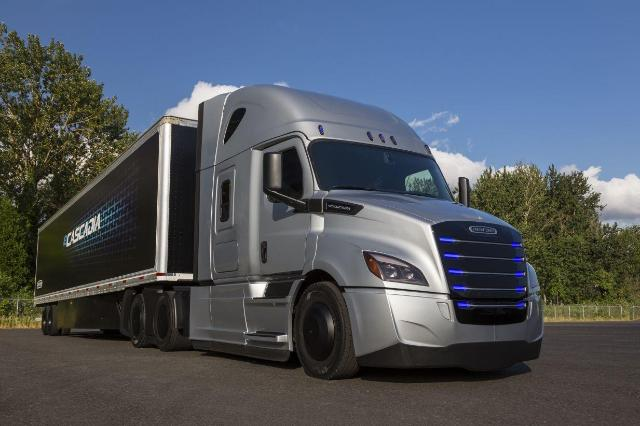truck: (74, 85, 546, 389)
